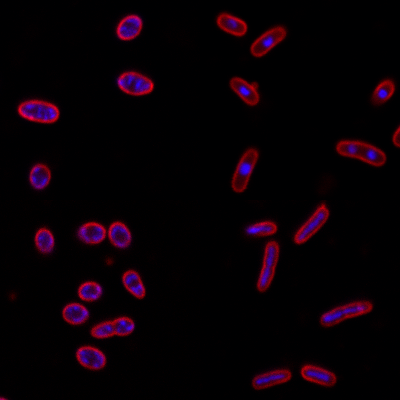CAM: (334, 137, 387, 168), (230, 147, 261, 194), (250, 24, 287, 57), (227, 77, 261, 108), (216, 11, 247, 36)
Mecillinam: (16, 98, 59, 124), (115, 70, 155, 96), (90, 316, 136, 338), (73, 344, 107, 371), (121, 269, 146, 299), (116, 14, 143, 41), (60, 301, 89, 325), (27, 163, 52, 190), (76, 279, 102, 301)
Oblique: (76, 220, 107, 246), (368, 79, 395, 106), (33, 225, 56, 256), (107, 220, 132, 248), (239, 220, 279, 237)
Rifampicin: (317, 299, 373, 328), (292, 205, 330, 246), (255, 240, 280, 292), (250, 368, 292, 391), (300, 362, 338, 387)
Vesicle: (5, 288, 18, 303), (102, 256, 114, 267)
